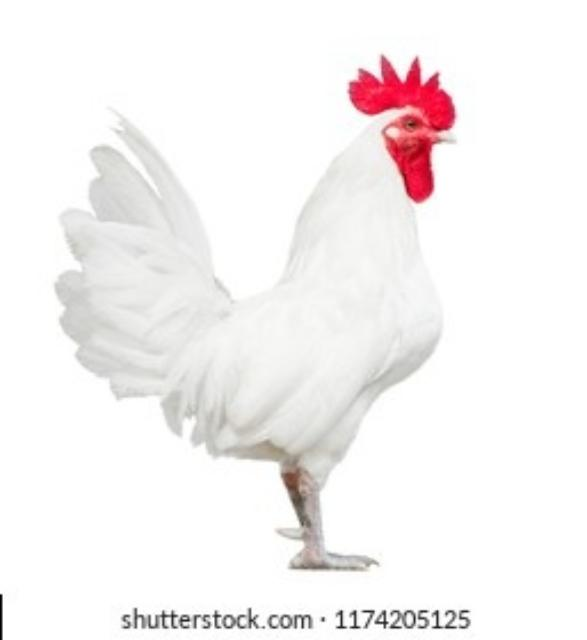Chicken: (54, 54, 457, 574)
